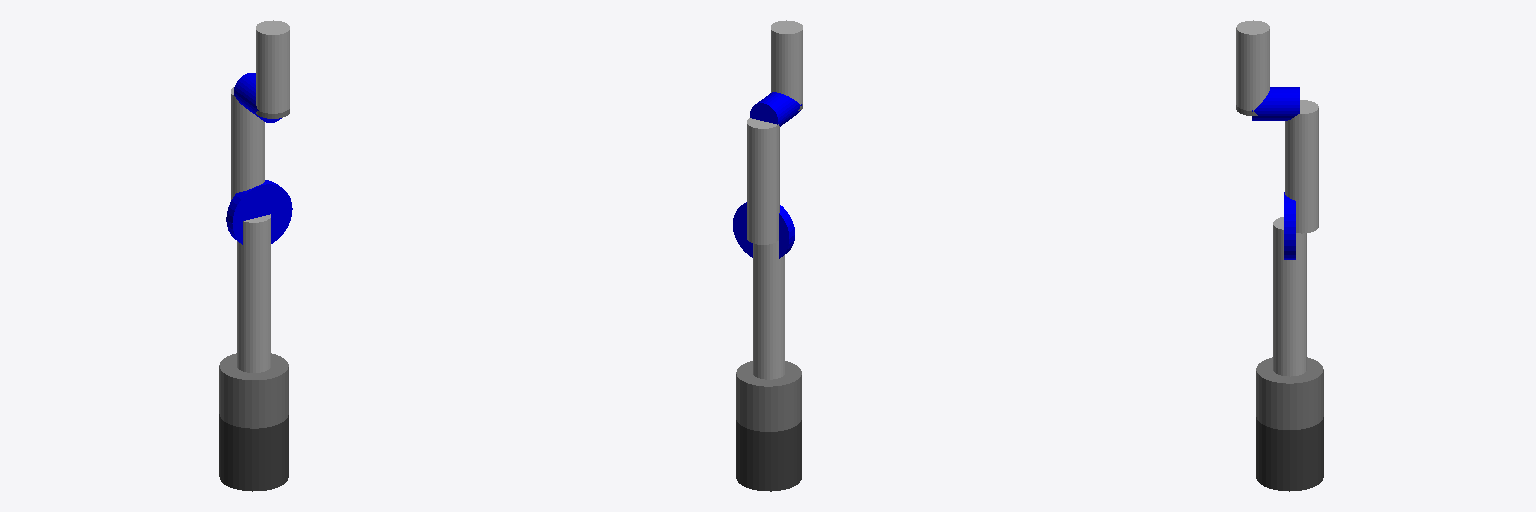
URDF robot description (prototype3):
<robot name="prototype3">
    <material name="Blue">
        <texture />
        <color rgba="0 0 1 1" />
    </material>
    <material name="DarkGrey">
        <texture />
        <color rgba="0.3 0.3 0.3 1" />
    </material>
    <material name="Grey">
        <texture />
        <color rgba="0.5 0.5 0.5 1" />
    </material>
    <material name="LightGrey">
        <texture />
        <color rgba="0.7 0.7 0.7 1" />
    </material>
    <link name="base">
        <visual>
            <origin xyz="0 0 0.1" rpy="0 -0 0" />
            <geometry>
                <cylinder radius="0.1" length="0.2" />
            </geometry>
            <material name="DarkGrey">
                <texture />
                <color rgba="0.3 0.3 0.3 1" />
            </material>
        </visual>
    </link>
    <link name="flange">
        <inertial>
            <mass value="2" />
            <origin xyz="0 0 0" rpy="0 -0 0" />
            <inertia ixx="0" ixy="0" ixz="0" iyy="0" iyz="0" izz="0" />
        </inertial>
        <visual>
            <origin xyz="0 0 -0.0082" rpy="0 -0 0" />
            <geometry>
                <cylinder radius="0.05" length="0.0164" />
            </geometry>
            <material name="Grey">
                <texture />
                <color rgba="0.5 0.5 0.5 1" />
            </material>
        </visual>
    </link>
    <link name="link1">
        <inertial>
            <mass value="8.08772e-39" />
            <origin xyz="0 0 0" rpy="0 -0 0" />
            <inertia ixx="3.74322e-38" ixy="0" ixz="7.50719e-38" iyy="1.31839e-37" iyz="1.01721e-41" izz="0.0705956" />
        </inertial>
        <visual>
            <origin xyz="0 0 0.27645" rpy="0 -0 0" />
            <geometry>
                <cylinder radius="0.1" length="0.1529" />
            </geometry>
            <material name="Grey">
                <texture />
                <color rgba="0.5 0.5 0.5 1" />
            </material>
        </visual>
    </link>
    <link name="link2">
        <inertial>
            <mass value="6.62935e-38" />
            <origin xyz="0 0 0" rpy="0 -0 0" />
            <inertia ixx="-0.350026" ixy="0.866646" ixz="0.708143" iyy="0.420621" iyz="1.99616" izz="-3.51301" />
        </inertial>
        <visual>
            <origin xyz="0 0.239 0" rpy="1.5708 -0 0" />
            <geometry>
                <cylinder radius="0.05" length="0.478" />
            </geometry>
            <material name="LightGrey">
                <texture />
                <color rgba="0.7 0.7 0.7 1" />
            </material>
        </visual>
    </link>
    <link name="link3">
        <inertial>
            <mass value="-1.18754" />
            <origin xyz="1.13914 -0.13092 2.33576e-16" rpy="0 -0 0" />
            <inertia ixx="0.888537" ixy="0.3415" ixz="-1.27858" iyy="-0.817941" iyz="-1.8251" izz="-0.220086" />
        </inertial>
        <visual>
            <origin xyz="0 -0.0178 0" rpy="0 -0 0" />
            <geometry>
                <cylinder radius="0.1" length="0.0356" />
            </geometry>
            <material name="Blue">
                <texture />
                <color rgba="0 0 1 1" />
            </material>
        </visual>
    </link>
    <link name="link4">
        <inertial>
            <mass value="-1.15348" />
            <origin xyz="-0.0407133 1.15392 1.17278" rpy="0 -0 0" />
            <inertia ixx="-0.569481" ixy="0.954801" ixz="-0.0142508" iyy="-0.468552" iyz="0.217853" izz="0.389151" />
        </inertial>
        <visual>
            <origin xyz="0 0 0.18525" rpy="0 -0 0" />
            <geometry>
                <cylinder radius="0.05" length="0.3905" />
            </geometry>
            <material name="LightGrey">
                <texture />
                <color rgba="0.7 0.7 0.7 1" />
            </material>
        </visual>
    </link>
    <link name="link5">
        <inertial>
            <mass value="-9.59064" />
            <origin xyz="-0.00152767 -0.00778856 0.138784" rpy="0 -0 0" />
            <inertia ixx="0.025291" ixy="0.360892" ixz="0.368068" iyy="-0.205618" iyz="-0.223653" izz="-0.46065" />
        </inertial>
        <visual>
            <origin xyz="0 0 0.07725" rpy="0 -0 0" />
            <geometry>
                <cylinder radius="0.05" length="0.1445" />
            </geometry>
            <material name="Blue">
                <texture />
                <color rgba="0 0 1 1" />
            </material>
        </visual>
    </link>
    <link name="link6">
        <inertial>
            <mass value="20.3317" />
            <origin xyz="0.00149486 8.04207e-05 0.00367416" rpy="0 -0 0" />
            <inertia ixx="-0.150848" ixy="-0.340672" ixz="0.144435" iyy="-0.284512" iyz="0.381957" izz="0.270214" />
        </inertial>
        <visual>
            <origin xyz="0 0 0.125" rpy="0 -0 0" />
            <geometry>
                <cylinder radius="0.05" length="0.25" />
            </geometry>
            <material name="LightGrey">
                <texture />
                <color rgba="0.7 0.7 0.7 1" />
            </material>
        </visual>
    </link>
    <joint name="flange_joint" type="fixed">
        <origin xyz="0 0 0" rpy="0 -0 0" />
        <axis xyz="0 0 0" />
        <parent link="link6" />
        <child link="flange" />
    </joint>
    <joint name="joint_1" type="revolute">
        <origin xyz="0 0 0" rpy="0 -0 0" />
        <axis xyz="0 0 1" />
        <parent link="base" />
        <child link="link1" />
        <limit effort="90" velocity="1" lower="-2.9" upper="2.9" />
    </joint>
    <joint name="joint_2" type="revolute">
        <origin xyz="0 0 0.3529" rpy="1.5708 -0 0" />
        <axis xyz="0 0 1" />
        <parent link="link1" />
        <child link="link2" />
        <limit effort="90" velocity="1" lower="-2.1" upper="2.1" />
    </joint>
    <joint name="joint_3" type="revolute">
        <origin xyz="0 0.478 0" rpy="0 -0 1.5708" />
        <axis xyz="0 0 1" />
        <parent link="link2" />
        <child link="link3" />
        <limit effort="51" velocity="0.5" lower="-2.9" upper="2.9" />
    </joint>
    <joint name="joint_4" type="revolute">
        <origin xyz="0 0 -0.0356" rpy="1.5708 -0 1.5708" />
        <axis xyz="0 0 1" />
        <parent link="link3" />
        <child link="link4" />
        <limit effort="51" velocity="0.5" lower="-2.9" upper="2.9" />
    </joint>
    <joint name="joint_5" type="revolute">
        <origin xyz="0 0 0.3905" rpy="1.5708 -4.23516e-22 -3.14159" />
        <axis xyz="0 0 1" />
        <parent link="link4" />
        <child link="link5" />
        <limit effort="51" velocity="0.5" lower="-2.5" upper="2.5" />
    </joint>
    <joint name="joint_6" type="revolute">
        <origin xyz="0 0 0.1445" rpy="-1.5708 0 0" />
        <axis xyz="0 0 1" />
        <parent link="link5" />
        <child link="link6" />
        <limit effort="51" velocity="0.5" lower="-2.9" upper="2.9" />
    </joint>
</robot>

--- Render facts (derived) ---
3 views of the same robot in one strip: view 1: azimuth 30°, elevation 25°; view 2: azimuth 150°, elevation 25°; view 3: azimuth 270°, elevation 25° (orthographic).
Model prototype3 with 8 links and 7 joints (6 revolute, 1 fixed), rooted at base, posed every joint at zero.
Visible links, largest first — view 1: link2, base, link1, link6, link4, link3, link5; view 2: link2, link4, base, link1, link6, link3, link5; view 3: link2, base, link1, link4, link6, link5, link3.
Boxes of the visible links, x1,y1,x2,y2 form: link2: [237, 214, 270, 372]; base: [219, 414, 288, 491]; link1: [219, 353, 288, 428]; link6: [256, 20, 289, 113]; link4: [231, 87, 264, 199]; link3: [226, 180, 292, 244]; link5: [234, 73, 281, 122]; link2: [753, 241, 784, 379]; link4: [747, 118, 779, 244]; base: [736, 420, 801, 491]; link1: [736, 361, 801, 431]; link6: [771, 20, 802, 104]; link3: [733, 202, 794, 258]; link5: [750, 92, 801, 126]; link2: [1273, 217, 1306, 376]; base: [1256, 417, 1323, 491]; link1: [1256, 357, 1323, 429]; link4: [1285, 100, 1318, 233]; link6: [1236, 20, 1269, 110]; link5: [1252, 87, 1299, 120]; link3: [1284, 192, 1295, 259].
Bounding box of the posed robot: 0.2178 × 0.2589 × 1.47 m (x, y, z).
Geometry: primitives only (box / cylinder / sphere), no mesh files.